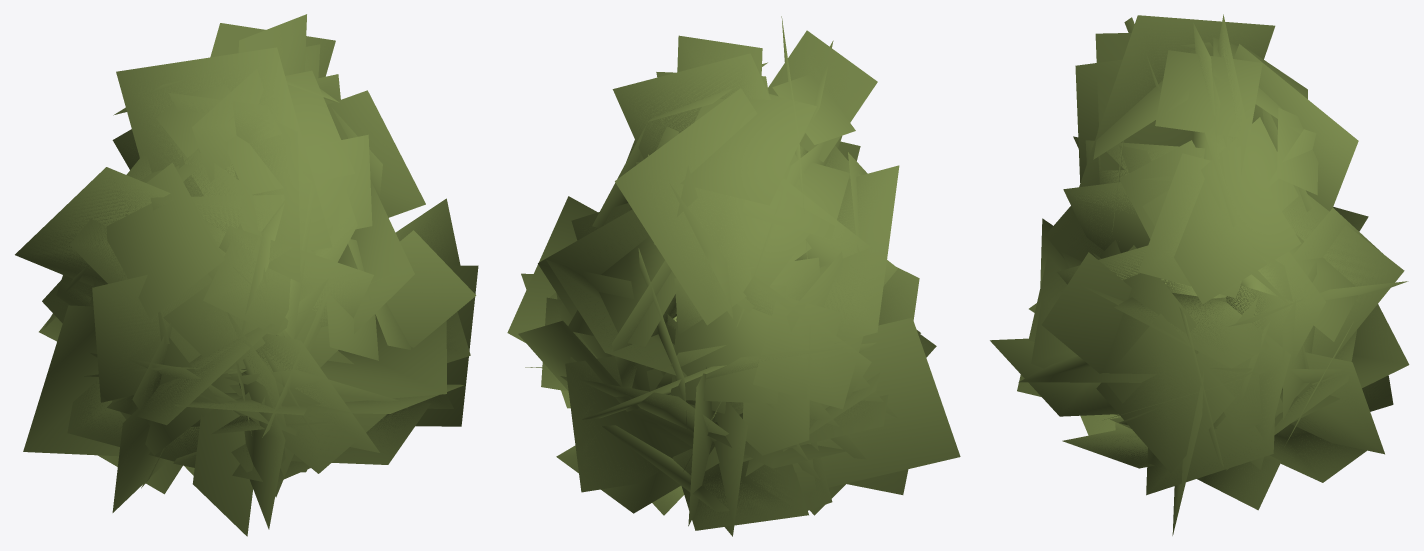
File: cmc_sevenson_LOD1.fbx
The picture shows the model from 3 angles, left to right: view 1: azimuth 30°, elevation 25°; view 2: azimuth 150°, elevation 25°; view 3: azimuth 270°, elevation 25°; orthographic projection. The views are drawn at different scales.
Visible parts, largest first — view 1: seven_son_tree_leaves, seven_son_tree_flowers; view 2: seven_son_tree_leaves, seven_son_tree_flowers; view 3: seven_son_tree_leaves, seven_son_tree_flowers.
Boxes of the visible parts, x1,y1,x2,y2 form: seven_son_tree_leaves: [15, 14, 478, 536]; seven_son_tree_flowers: [44, 44, 410, 455]; seven_son_tree_leaves: [507, 16, 960, 536]; seven_son_tree_flowers: [549, 62, 867, 413]; seven_son_tree_leaves: [990, 14, 1409, 535]; seven_son_tree_flowers: [1093, 37, 1357, 473].
Size of what is drawn, in the model's own units: 7.89 by 8.01 by 6.51.
